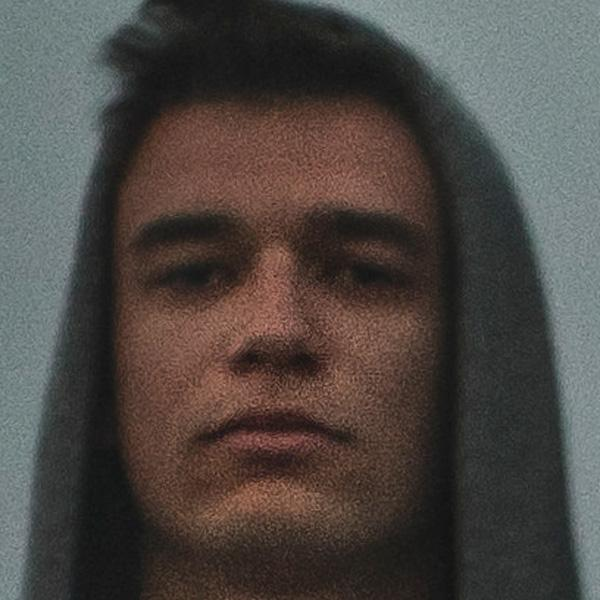Eyes: (144, 244, 247, 305), (312, 243, 415, 302)
